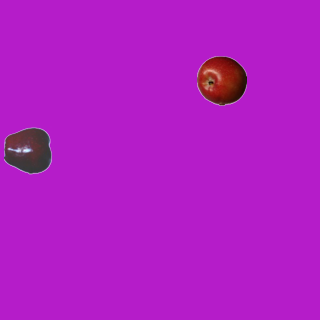Apple Braeburn: (196, 55, 246, 105)
Apple Red Delicious: (3, 125, 53, 175)
